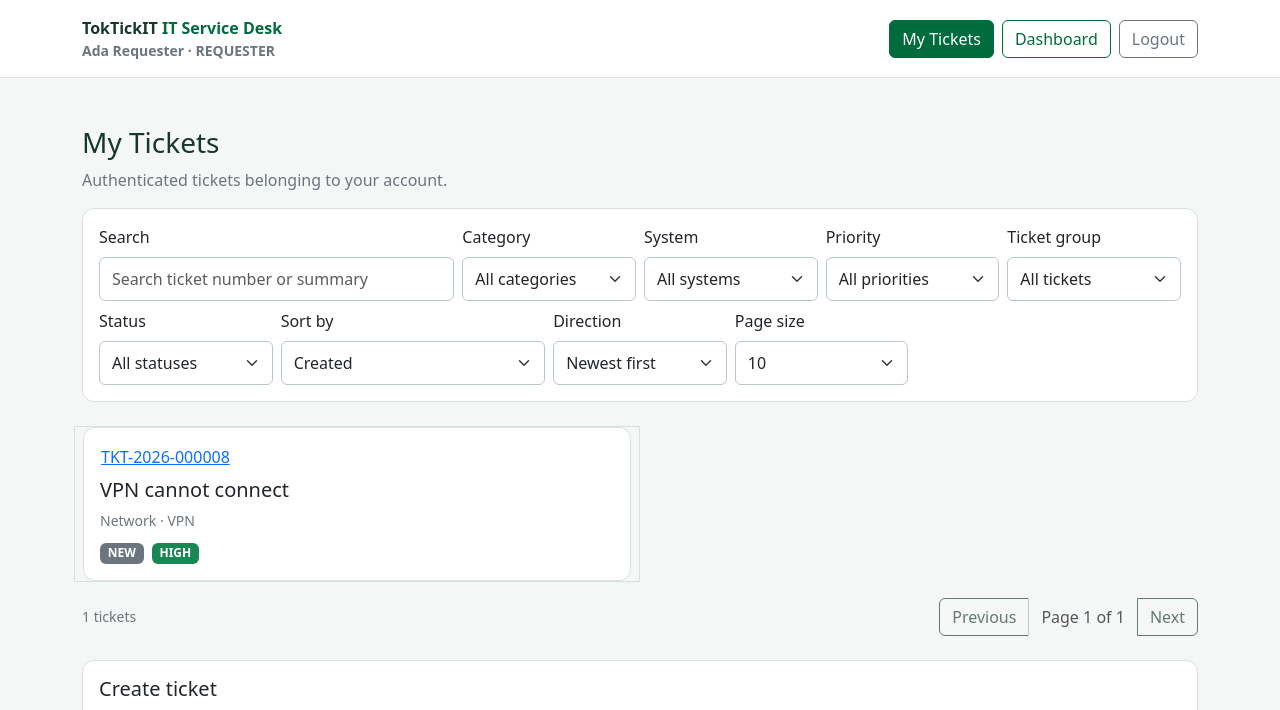
Test: authenticated requester regression › opens an authenticated ticket detail
Click the button "TKT-2026-000008" at (165, 457), box [100, 444, 231, 470]
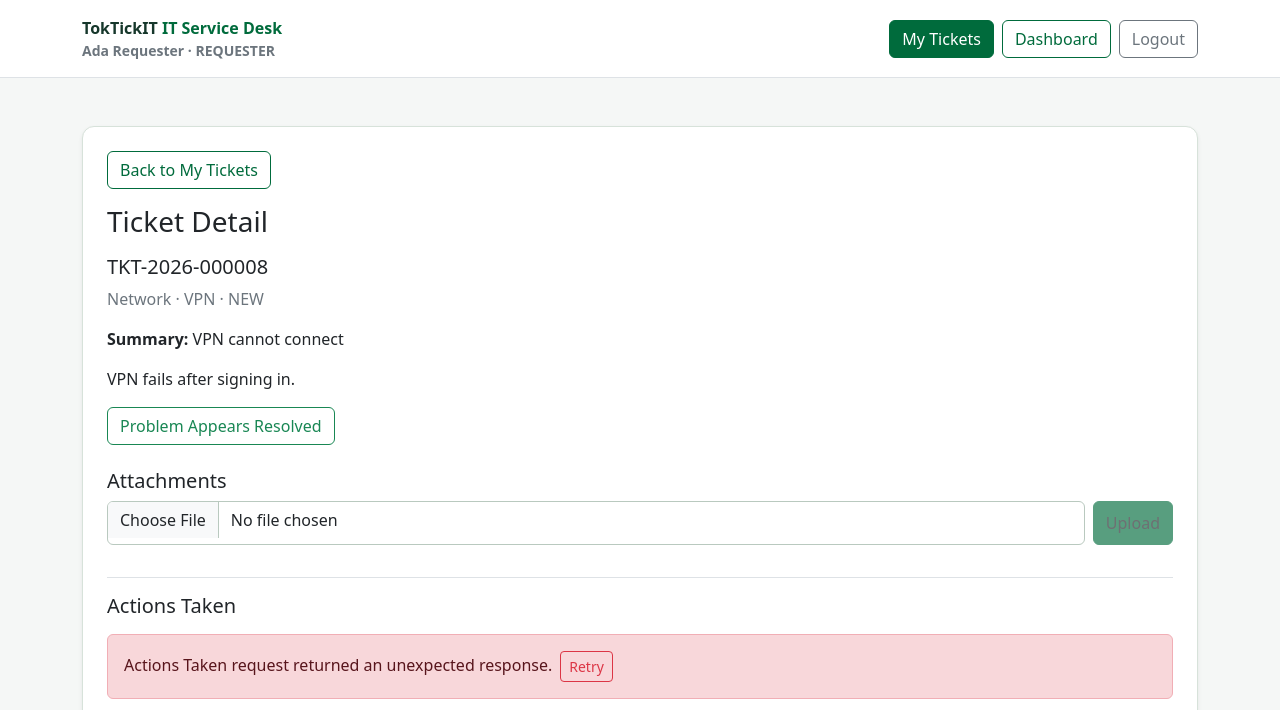
Expected: the heading "TKT-2026-000008" is shown, [107, 253, 268, 280]
